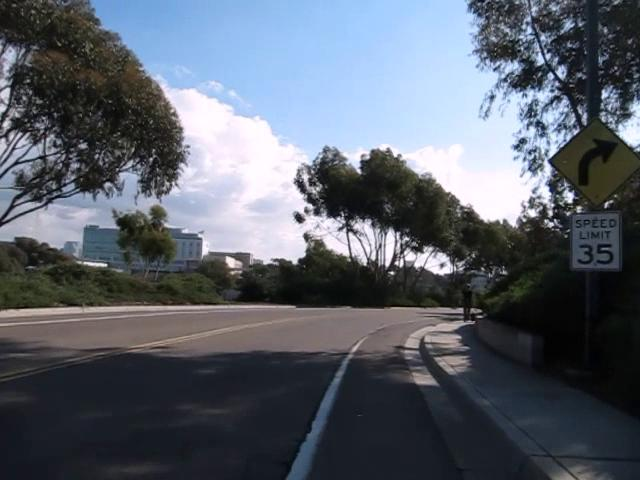speedLimit35: (569, 209, 622, 271)
